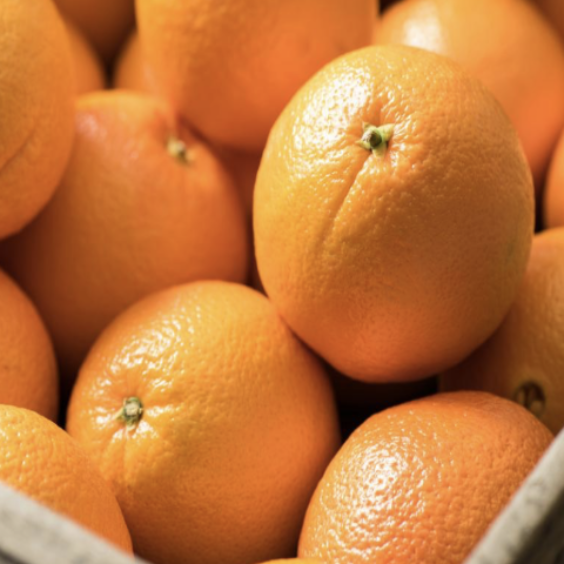orange: (236, 15, 544, 396), (47, 248, 354, 563)
